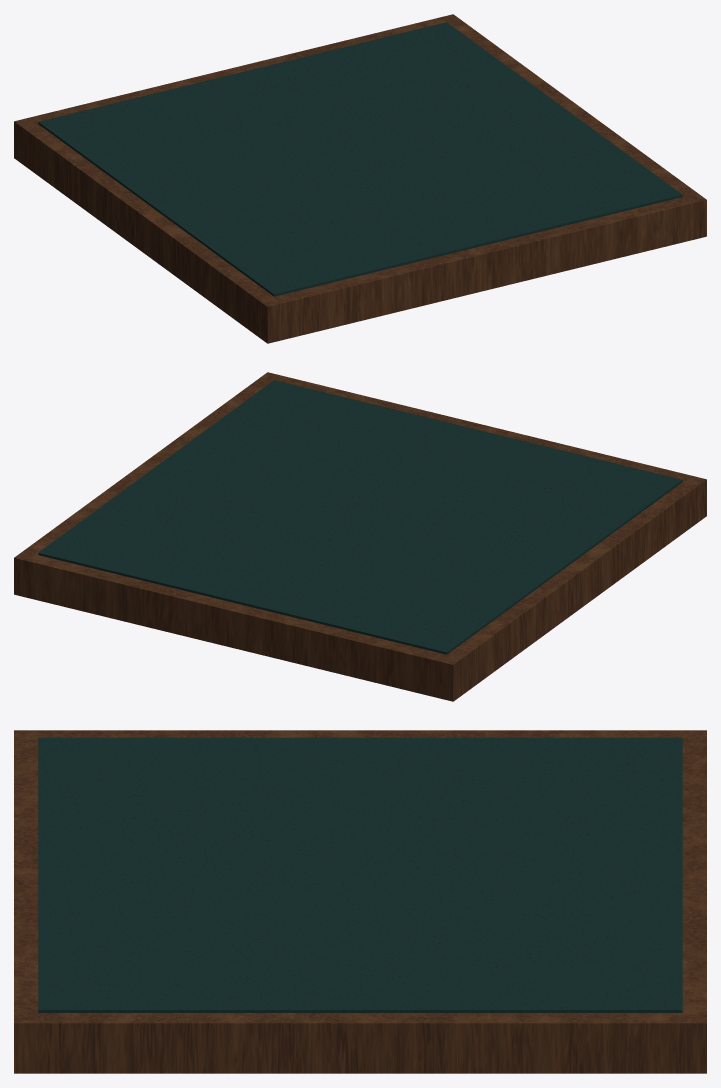
Rendered from SM_CR_Ceiling.glb.
The picture shows the model from 3 angles, top to bottom: view 1: azimuth 30°, elevation 25°; view 2: azimuth 150°, elevation 25°; view 3: azimuth 270°, elevation 25°; orthographic projection. The views are drawn at different scales.
Parts seen in each view (by area): view 1: SM_CR_Ceiling; view 2: SM_CR_Ceiling; view 3: SM_CR_Ceiling.
Part boxes in pixels (x1,y1,x2,y2): SM_CR_Ceiling: [14, 14, 706, 343]; SM_CR_Ceiling: [14, 372, 706, 701]; SM_CR_Ceiling: [14, 730, 706, 1073].
Bounding box in the file's own units: 4 × 0.34 × 4.
Materials: 4 (4 with a texture image).
